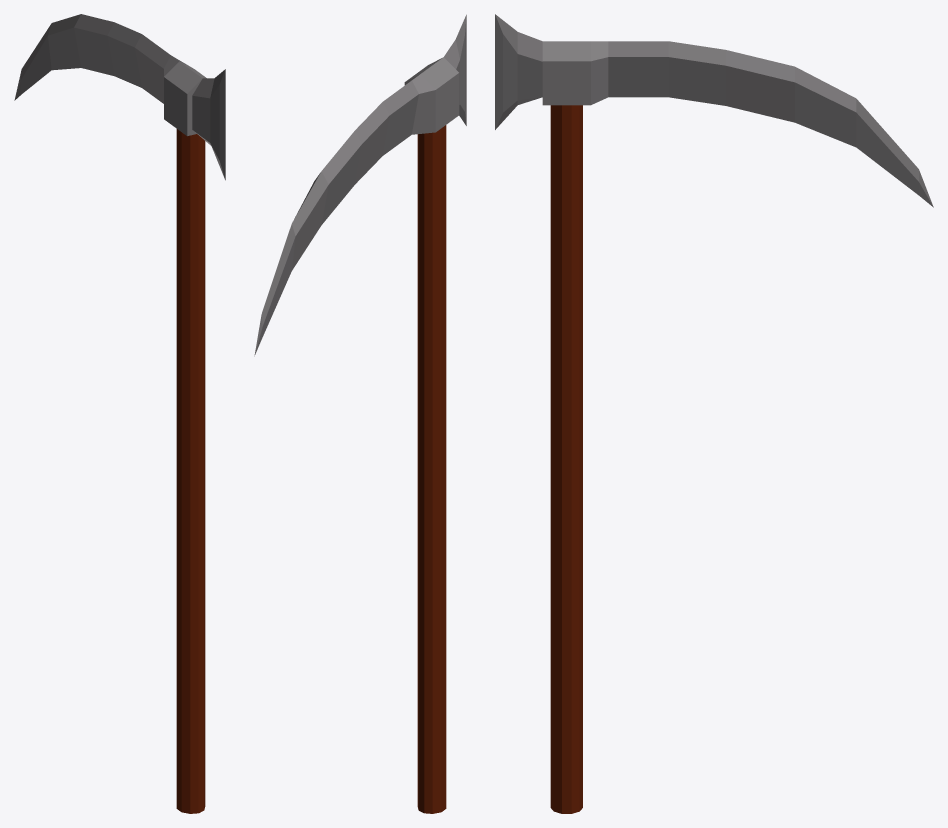
The model's file is WeaponScythe.fbx.
The picture shows the model from 3 angles, left to right: view 1: azimuth 30°, elevation 25°; view 2: azimuth 150°, elevation 25°; view 3: azimuth 270°, elevation 25°; orthographic projection. The views are drawn at different scales.
Visible parts, largest first — view 1: Cylinder; view 2: Cylinder; view 3: Cylinder.
Part boxes in pixels (bbox=[...]): Cylinder: bbox=[14, 14, 225, 813]; Cylinder: bbox=[254, 14, 466, 813]; Cylinder: bbox=[495, 14, 933, 813].
Size of the model in its own units: 0.0849 by 2 by 1.
